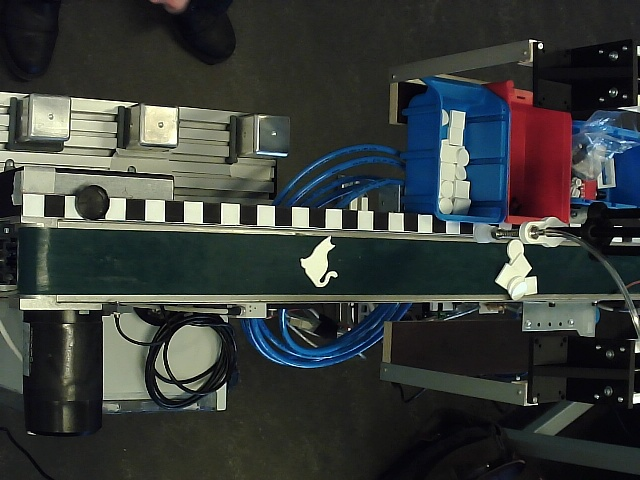cat: (300, 235, 338, 289)
